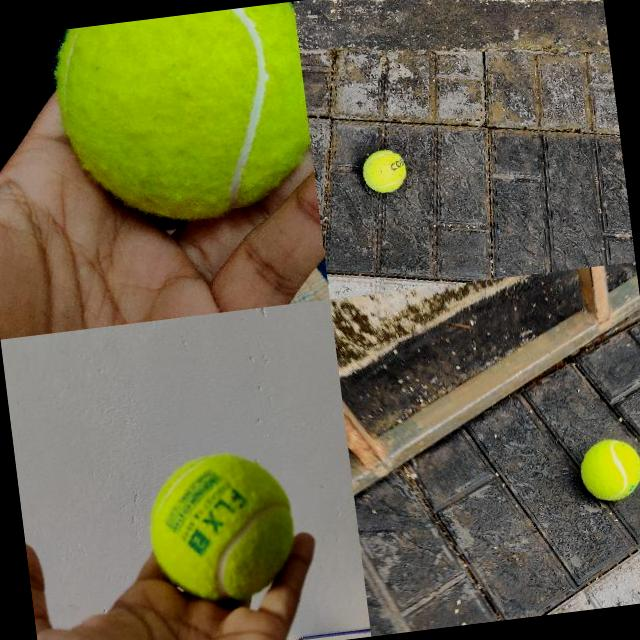Tennis Ball: (48, 2, 317, 235), (140, 446, 301, 606), (576, 435, 640, 504), (358, 146, 408, 194)
